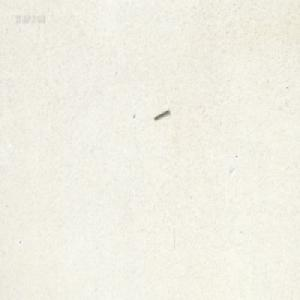Bolt: (153, 107, 169, 120)
